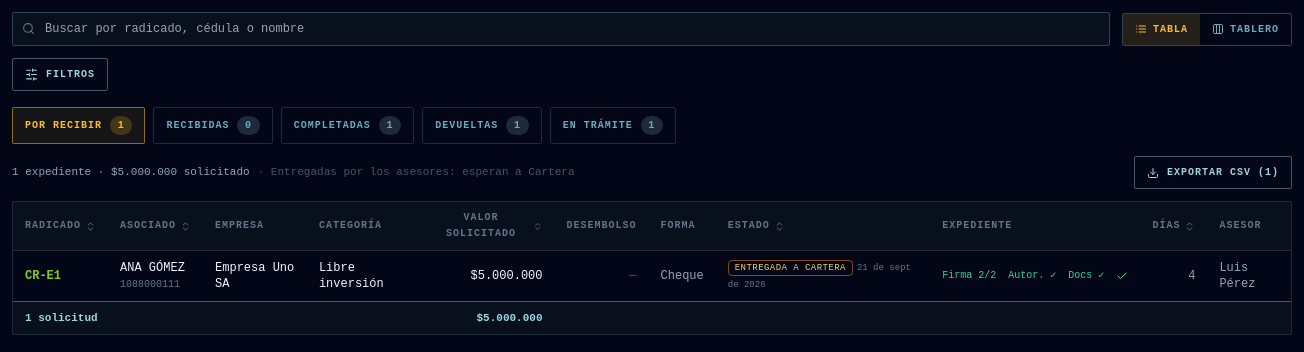
Scenario: Bandeja de Cartera — tabla y pestañas › cambiar de pestaña pide esa bandeja y la deja en la URL (la de por recibir es la de origen y no la ensucia)
Expected: the link "CR-E1" is shown, [25,269,61,283]
Step 1. Click the button "DEVUELTAS 1" → (482, 126), box [422,107,542,144]
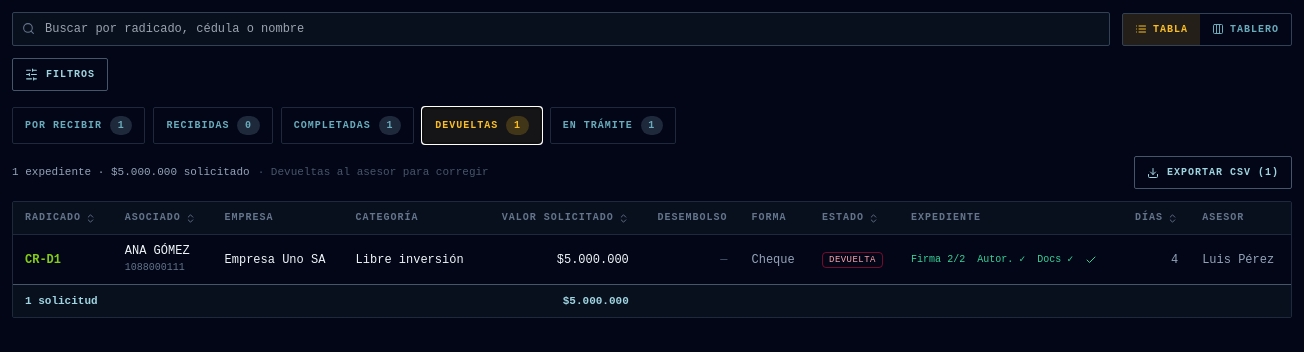
Result: the link "CR-D1" is shown at [25,252,61,266]
Result: the link "CR-E1" is gone
Step 2. Click the button "POR RECIBIR 1" → (79, 126), box [12,107,145,144]
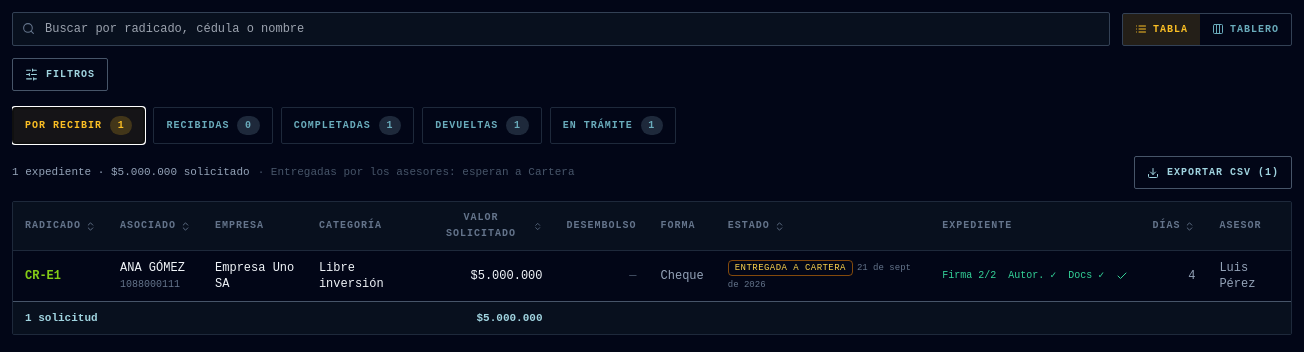
Result: the link "CR-E1" is shown at [25,269,61,283]
